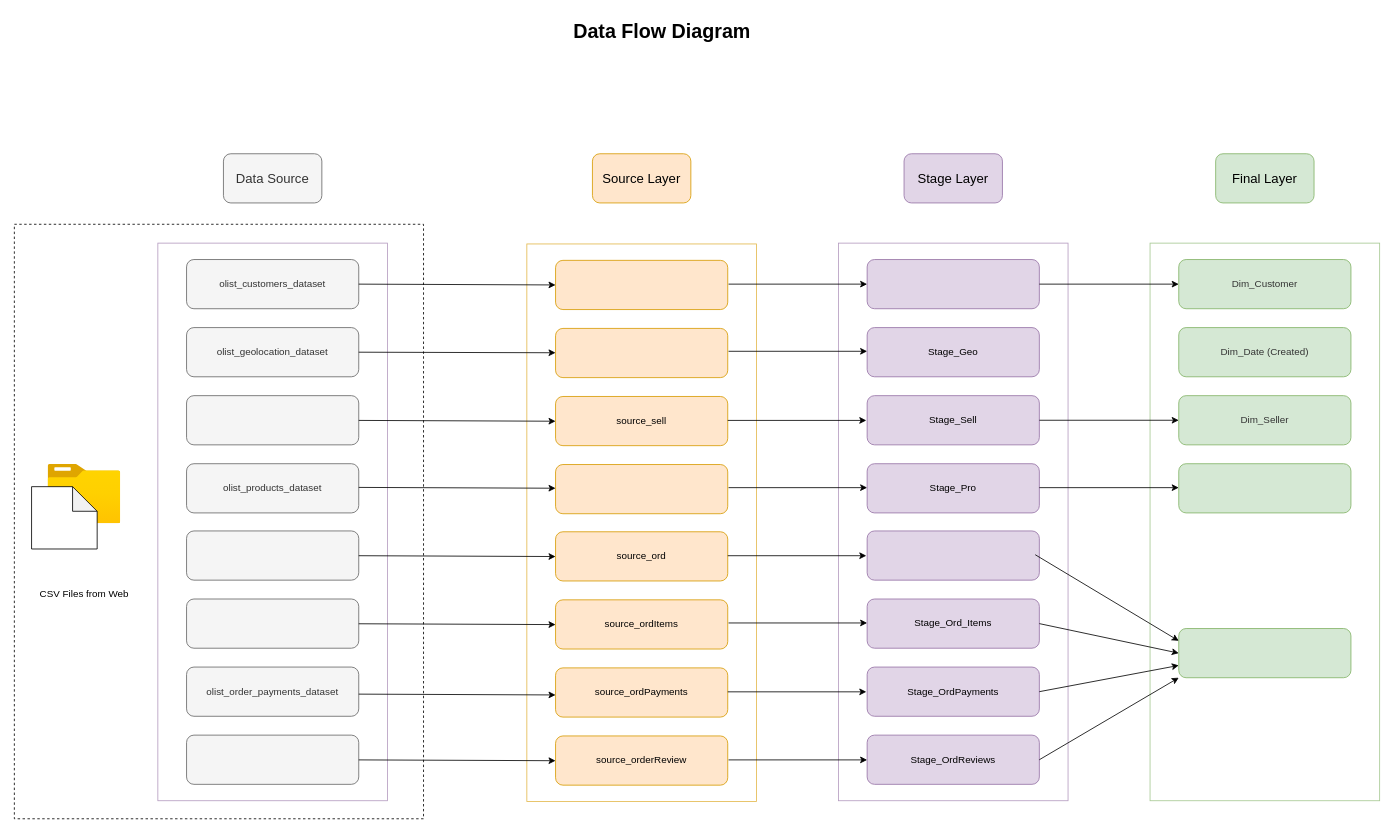
This 1394x833 diagram has some shape labels left out. The shapes that lost their labels are listed below. From the top down, each one's centre as x and y in pixels, then its label:
At pixel 641 285: "source_cus".
At pixel 952 284: "Stage_Cus".
At pixel 641 353: "source_geo".
At pixel 272 420: "olist_sellers_dataset".
At pixel 641 489: "source_pro".
At pixel 1264 488: "Dim_Product".
At pixel 272 555: "olist_orders_dataset".
At pixel 952 555: "Stage_Ord".
At pixel 272 623: "olist_order_items_dataset".
At pixel 1264 653: "Fact_Order_Items".
At pixel 272 759: "olist_order_reviews_dataset".
